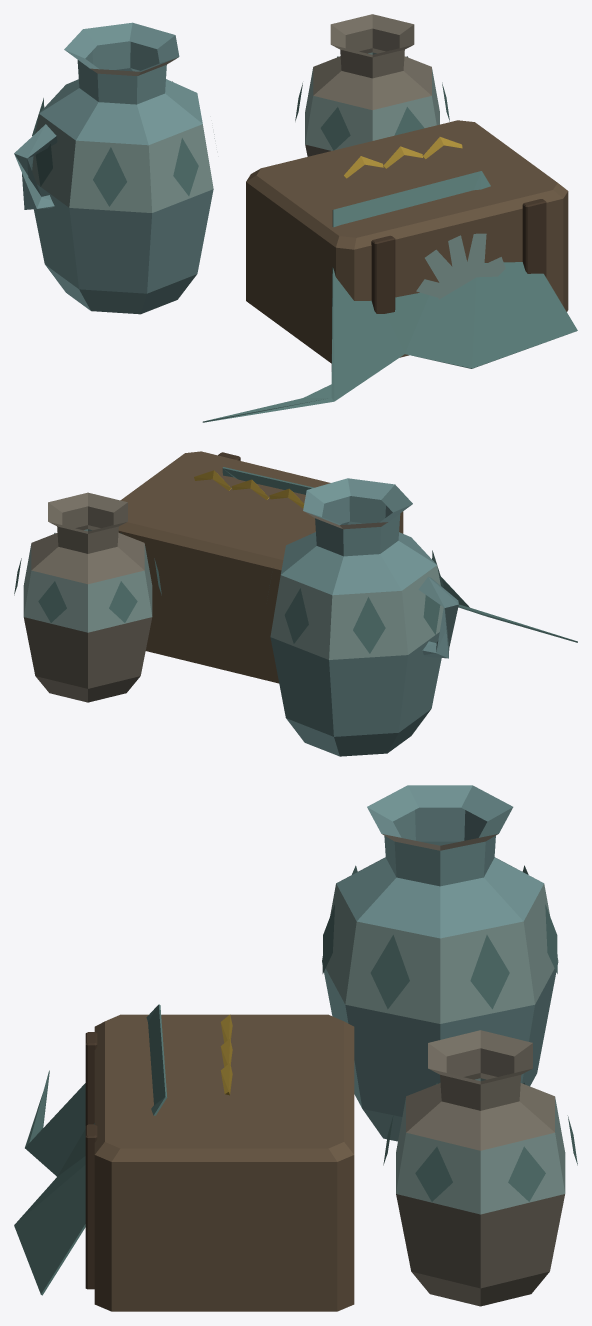
Rendered from loot_pile.glb.
The picture shows the model from 3 angles, top to bottom: view 1: azimuth 30°, elevation 25°; view 2: azimuth 150°, elevation 25°; view 3: azimuth 270°, elevation 25°; orthographic projection. The views are drawn at different scales.
Visible parts, largest first — view 1: Body_loot_pile.001; view 2: Body_loot_pile.001; view 3: Body_loot_pile.001.
Part boxes in pixels (box(x1,y1,x2,y2)): Body_loot_pile.001: box(14, 14, 577, 422); Body_loot_pile.001: box(14, 451, 577, 756); Body_loot_pile.001: box(14, 785, 577, 1311).
Size of the model in its own units: 1.9 by 1 by 1.67.
